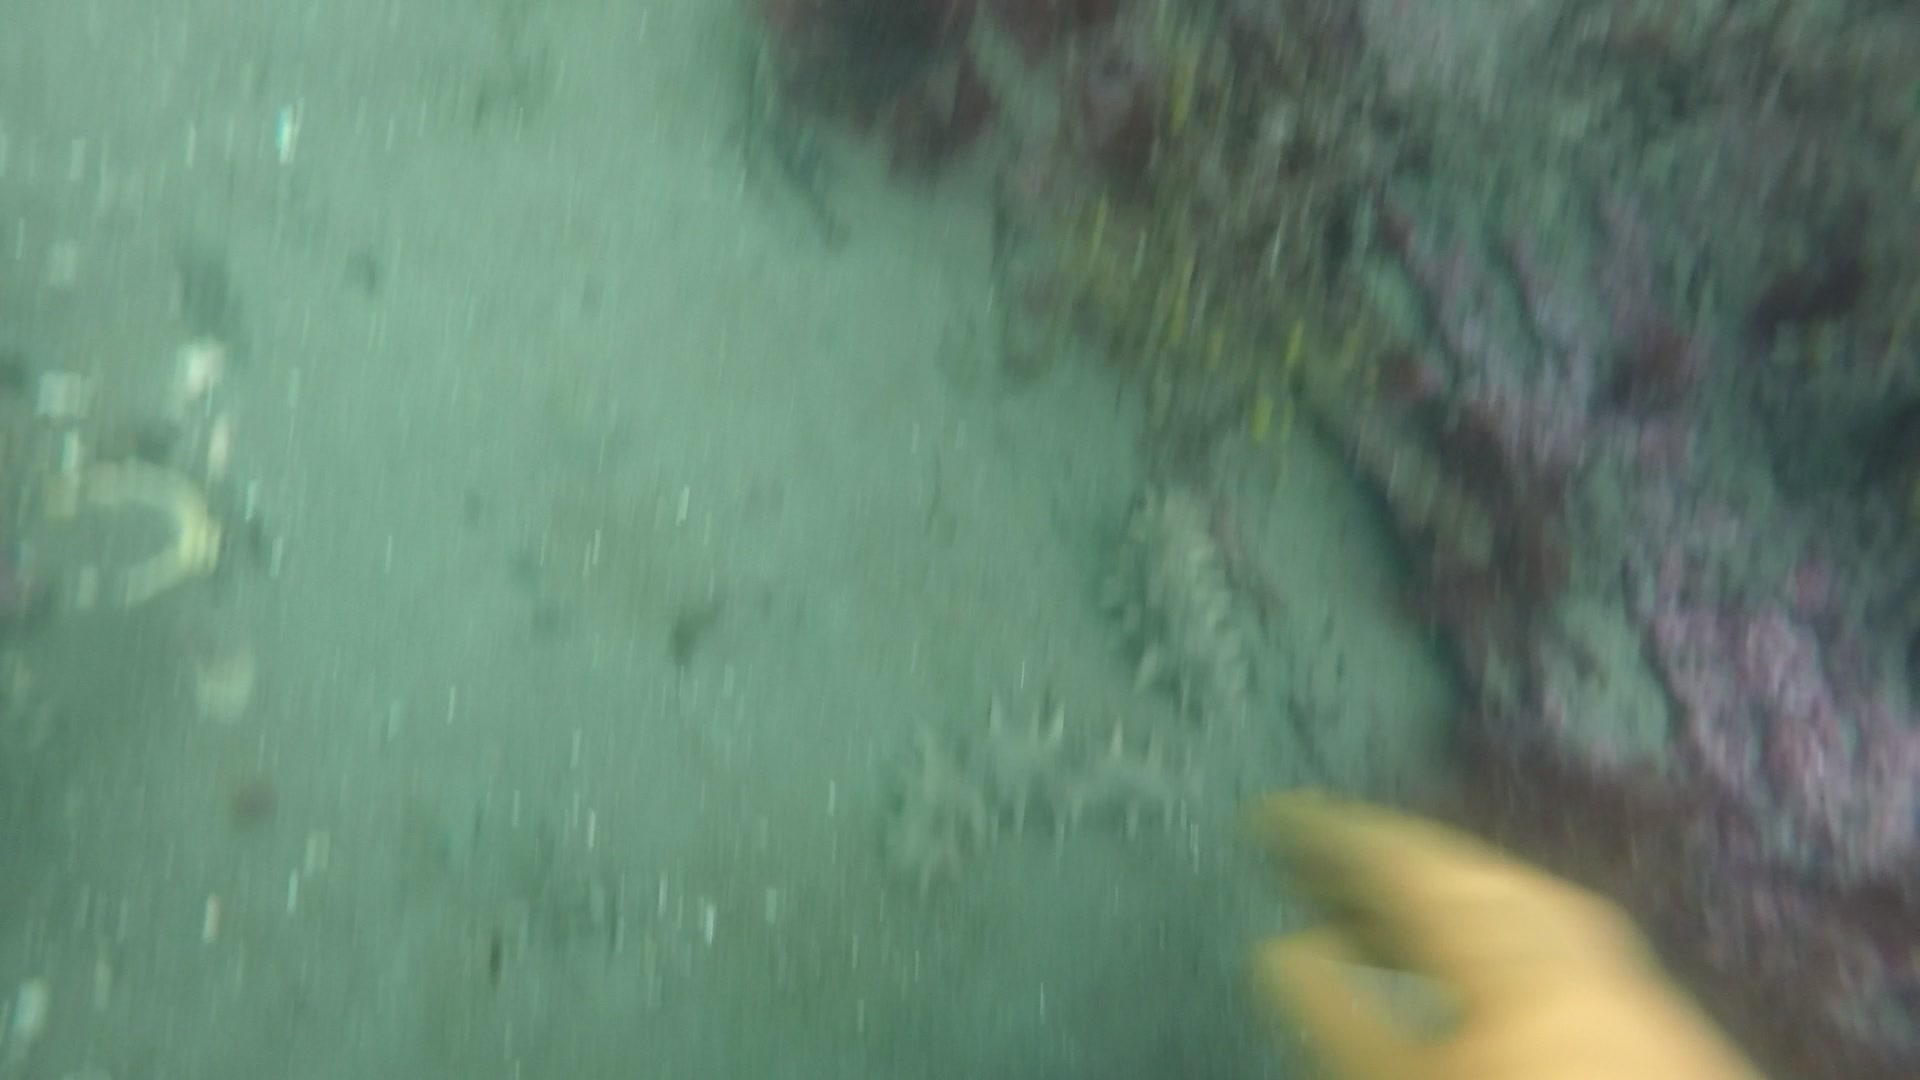holothurian: (872, 702, 1213, 903), (1096, 477, 1261, 713)
